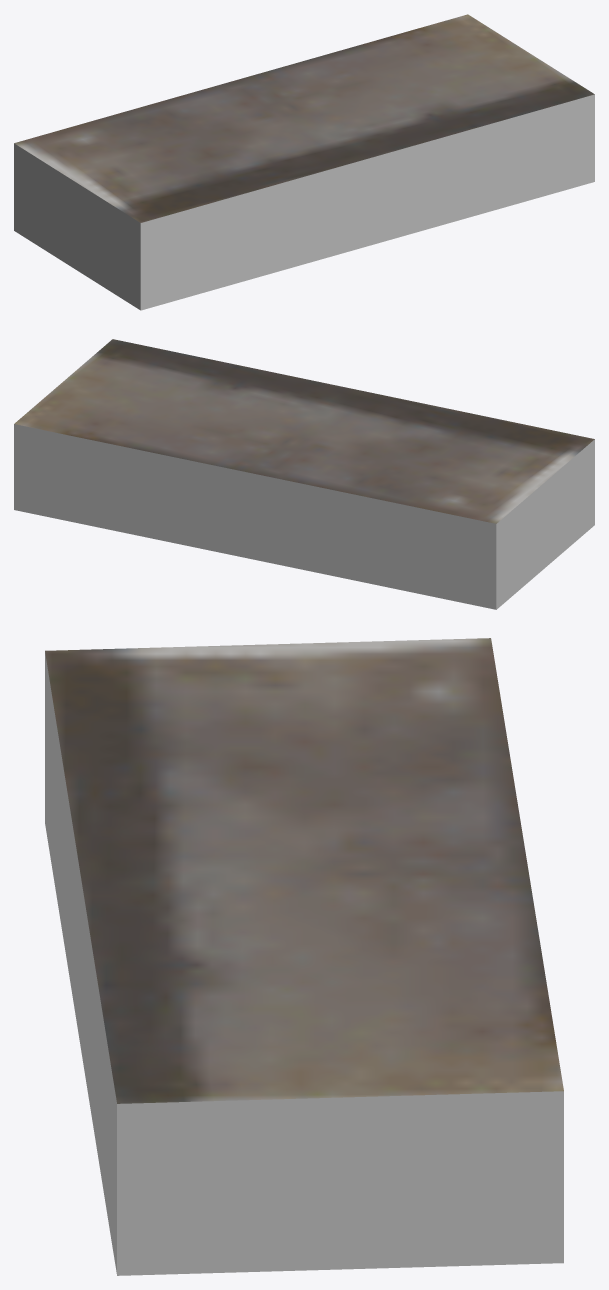
The model's file is DEBW_0010007TxiF.gltf.
3 renders of one model, top to bottom at view 1: azimuth 30°, elevation 25°; view 2: azimuth 150°, elevation 25°; view 3: azimuth 270°, elevation 25°, orthographic. The views are drawn at different scales.
Parts seen in each view (by area): view 1: Z_UP; view 2: Z_UP; view 3: Z_UP.
Part boxes in pixels (<box>): Z_UP: <box>14,14,594,310</box>; Z_UP: <box>14,339,594,609</box>; Z_UP: <box>45,638,563,1275</box>.
Size of the model in its own units: 14.65 by 2.52 by 6.9.
2 materials, 1 textured.
